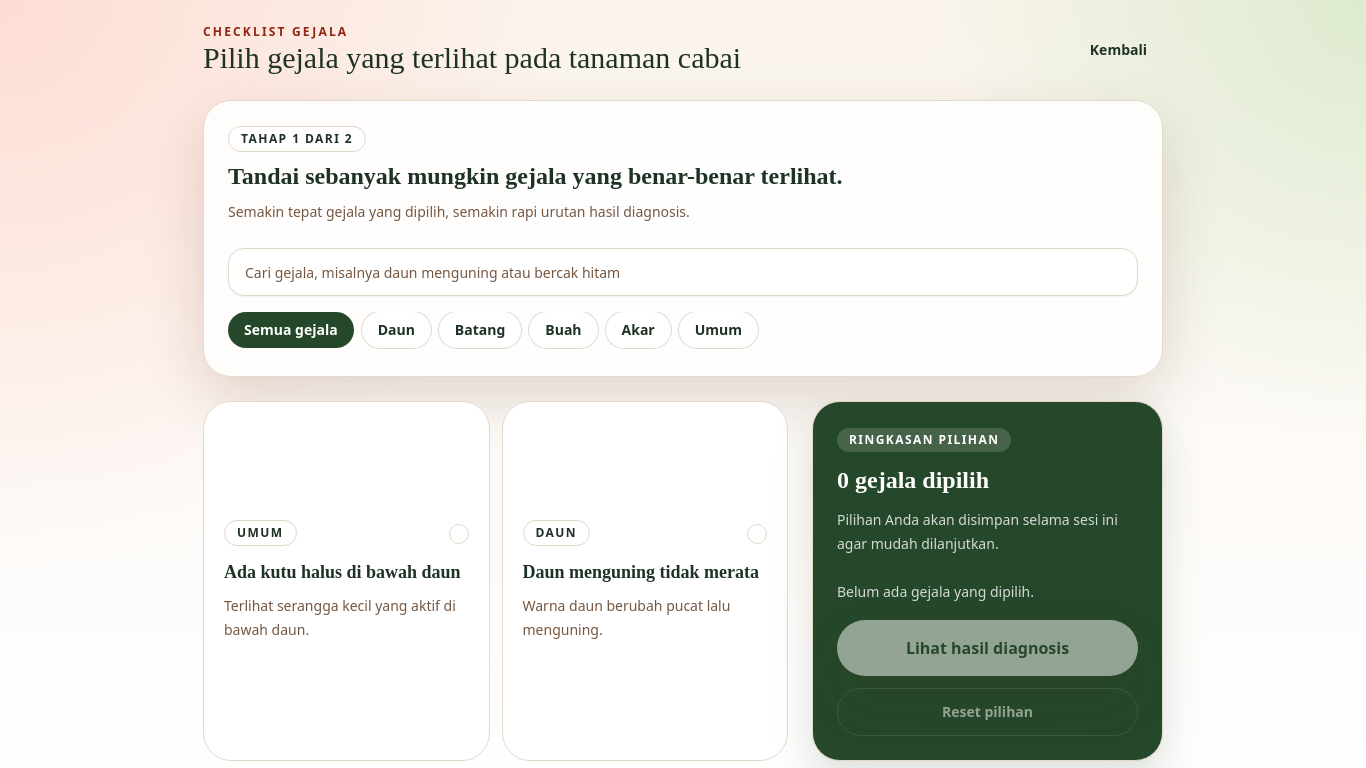
Scenario: DiagnosisPageClient › filters symptoms and enables diagnosis after a symptom is selected
The width and height of the screenshot is (1366, 768).
Expected: the button "Lihat hasil diagnosis" is disabled, [837,620,1138,676]
Type "kutu" into the field labelled "Cari gejala, misalnya daun menguning atau bercak hitam" at (683, 272), box [228,248,1138,296]
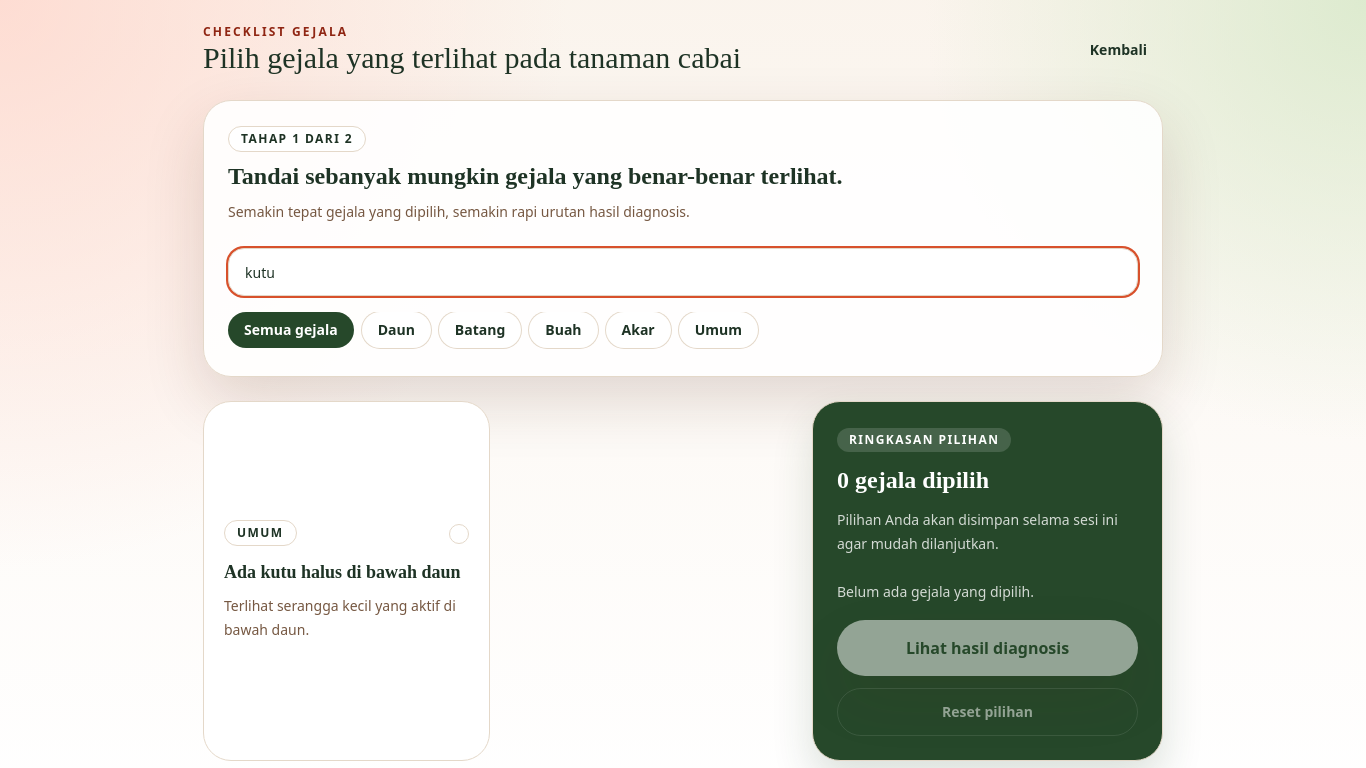
Click the button "Ada kutu halus di bawah daun" at (346, 581), box [203,401,490,761]
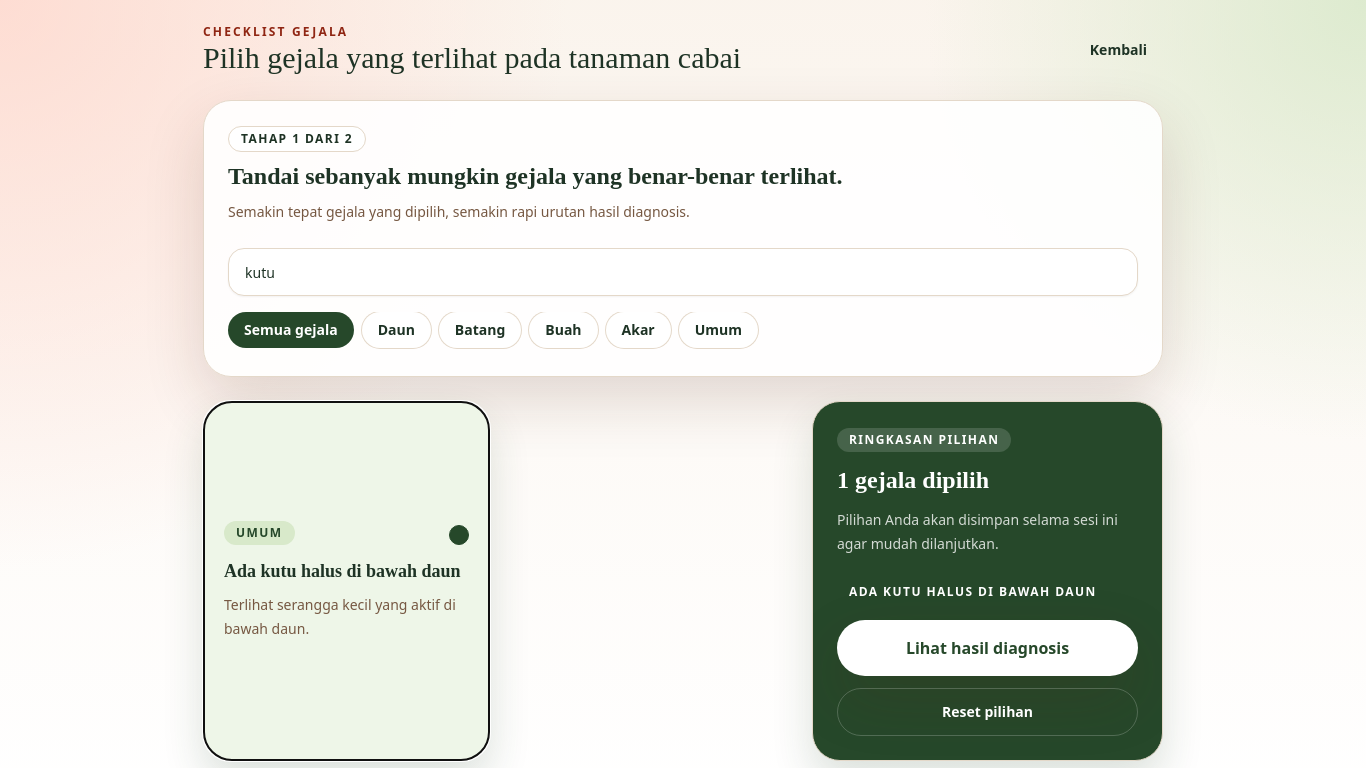
Expected: the button "Lihat hasil diagnosis" is enabled, [837,620,1138,676]
Expected: the heading "1 gejala dipilih" is shown, [837,467,989,493]
